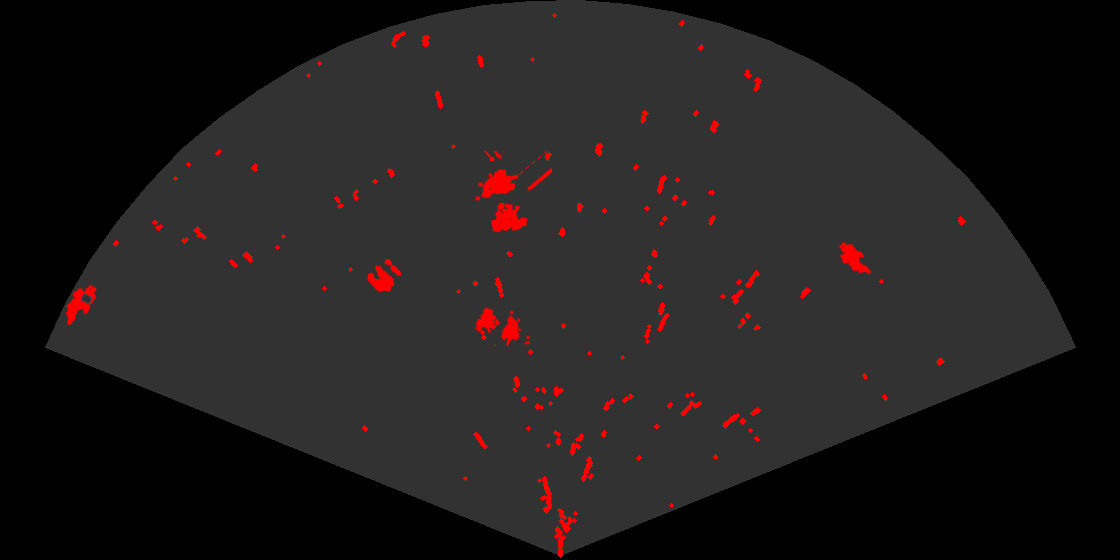AUV: (64, 283, 98, 327), (837, 240, 873, 276)
ball: (366, 257, 403, 294)
cage: (474, 151, 552, 234), (473, 305, 530, 346)
